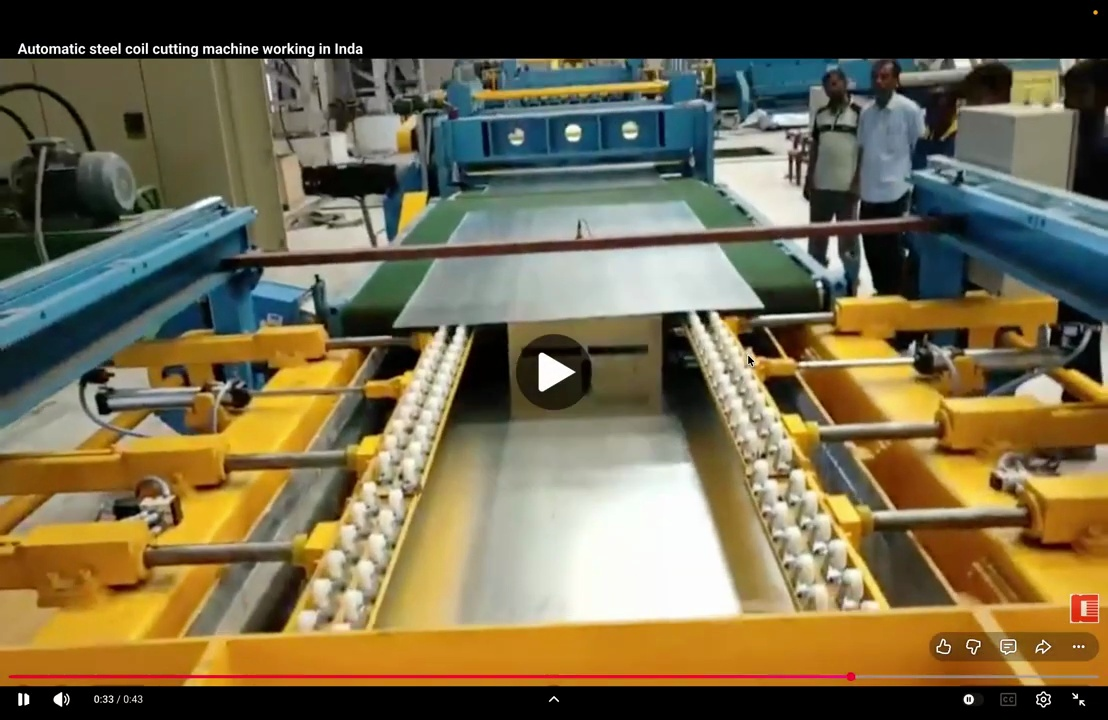steel plate: (395, 245, 762, 327), (484, 170, 664, 194)
